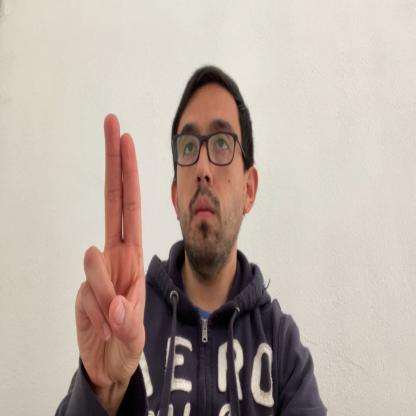U: (75, 115, 145, 380)
